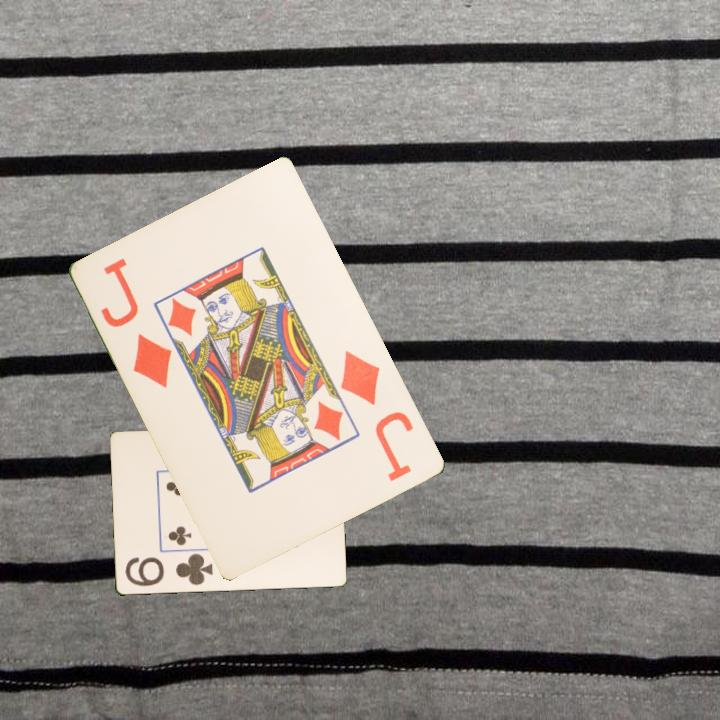6c: (122, 550, 215, 589)
Jd: (337, 347, 417, 485), (97, 254, 176, 392)
